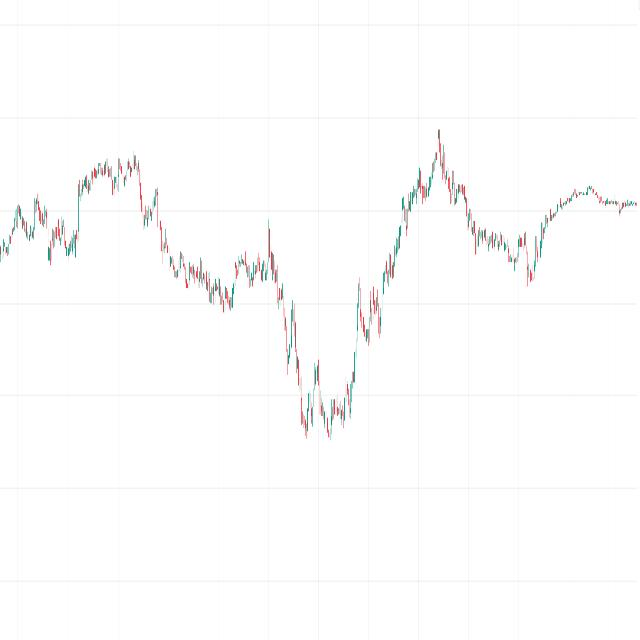Rising-Wedge: (271, 111, 454, 516)
